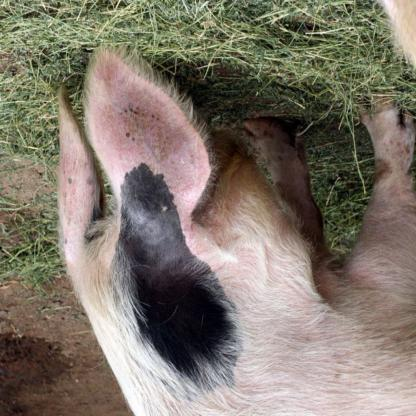boar: (57, 45, 416, 416), (382, 1, 416, 71)
